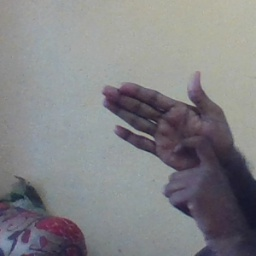R: (93, 67, 238, 222)
